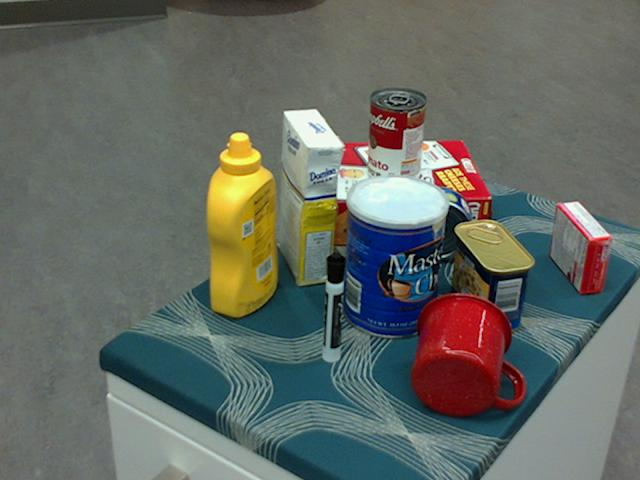cracker_box: (302, 139, 490, 249)
gelatin_box: (550, 201, 612, 294)
large_marker: (321, 252, 344, 364)
master_chef_can: (343, 174, 449, 339)
mug: (411, 291, 522, 416)
mustard_bottle: (205, 132, 278, 318)
potted_meat_can: (451, 220, 535, 333)
sugar_box: (278, 109, 341, 288)
tomato_soup_can: (368, 88, 426, 187)
tuna_fish_can: (399, 185, 472, 259)
